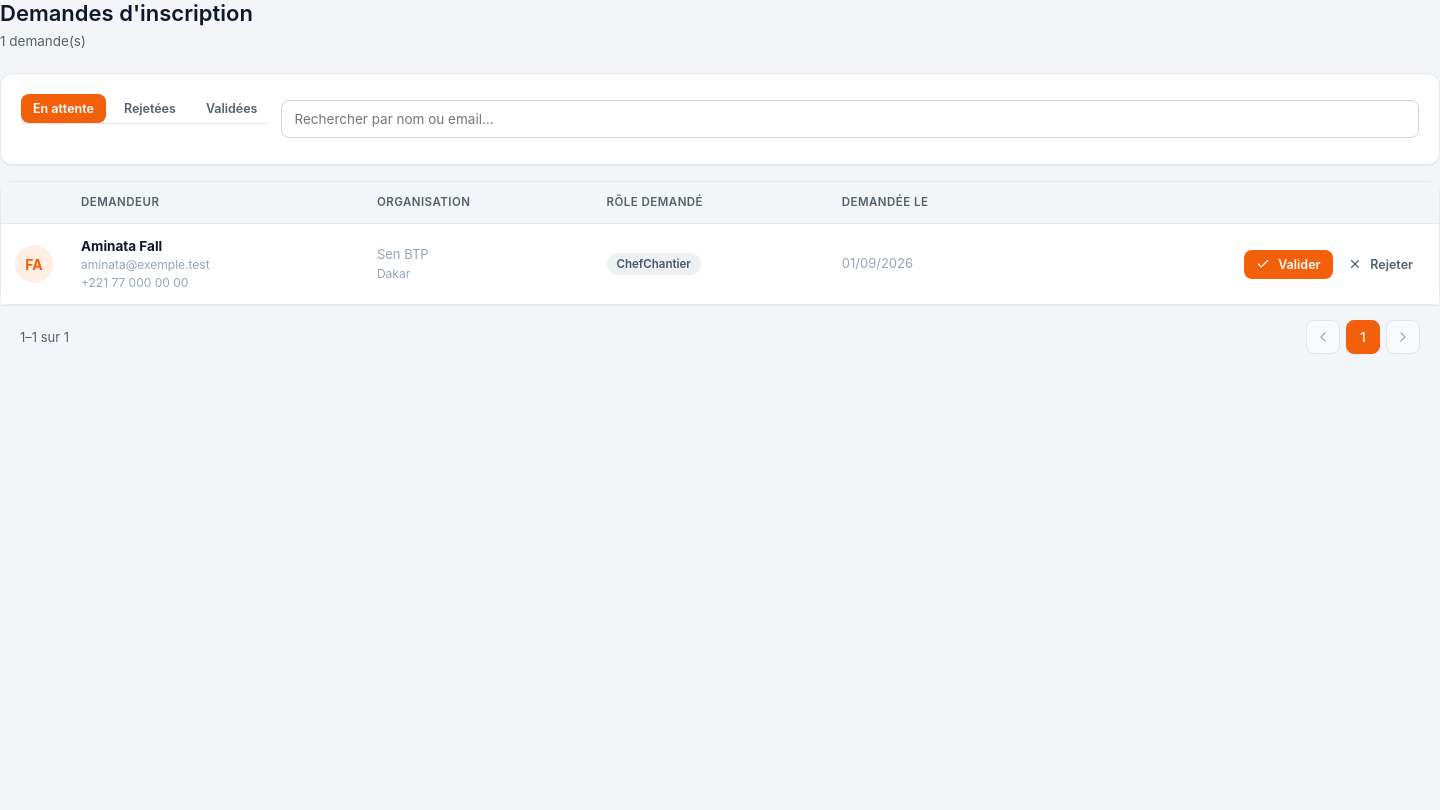
Scenario: PlateformeDemandes › rejet › refuse un motif trop court sans appeler le serveur
Click the button "Rejeter" at (1381, 264), box [1336,250,1425,279]
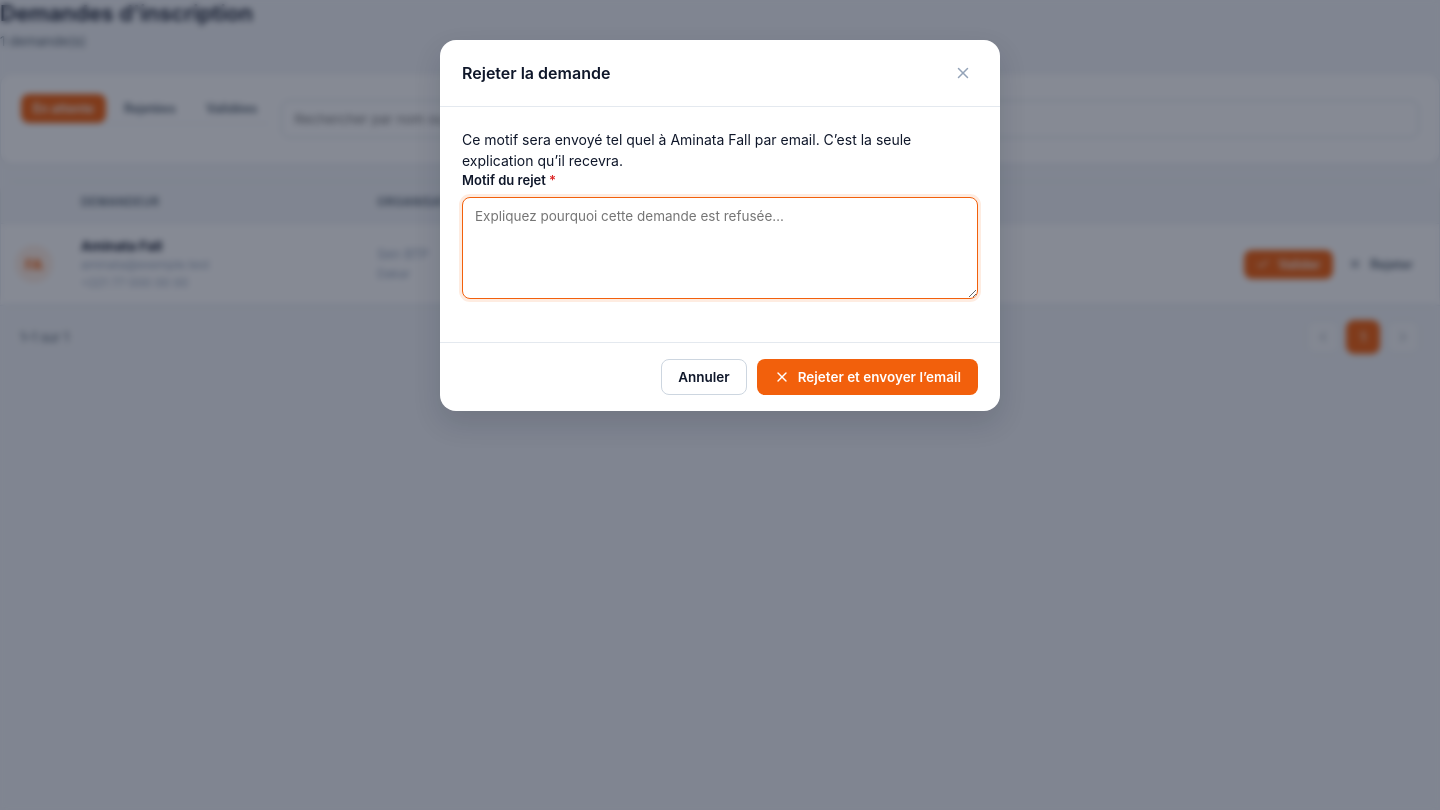
Type "non" into the text box labelled "Motif du rejet *" at (720, 248), box [462,196,978,298]
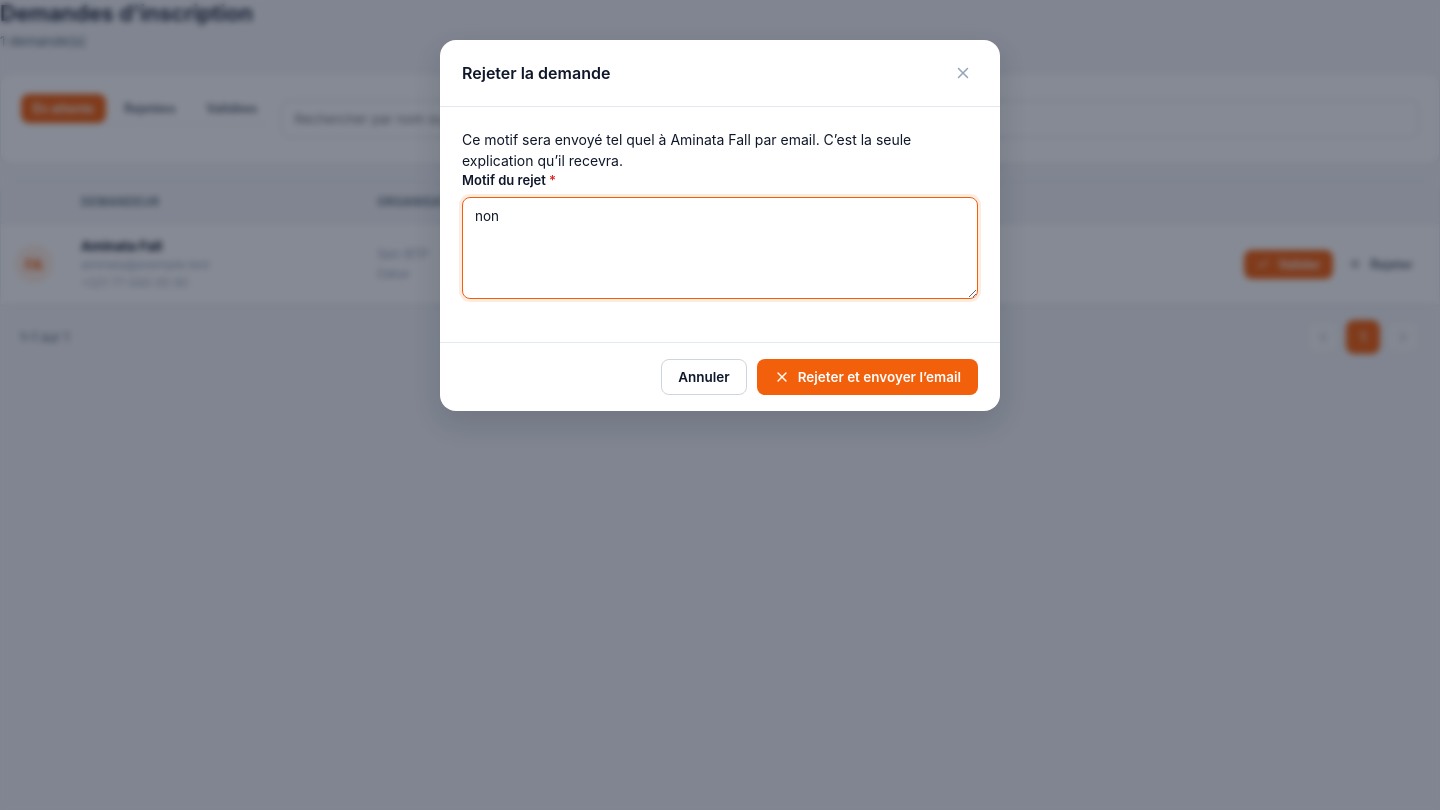
Click the button "Rejeter et envoyer l’email" at (867, 377), box [757,358,978,395]
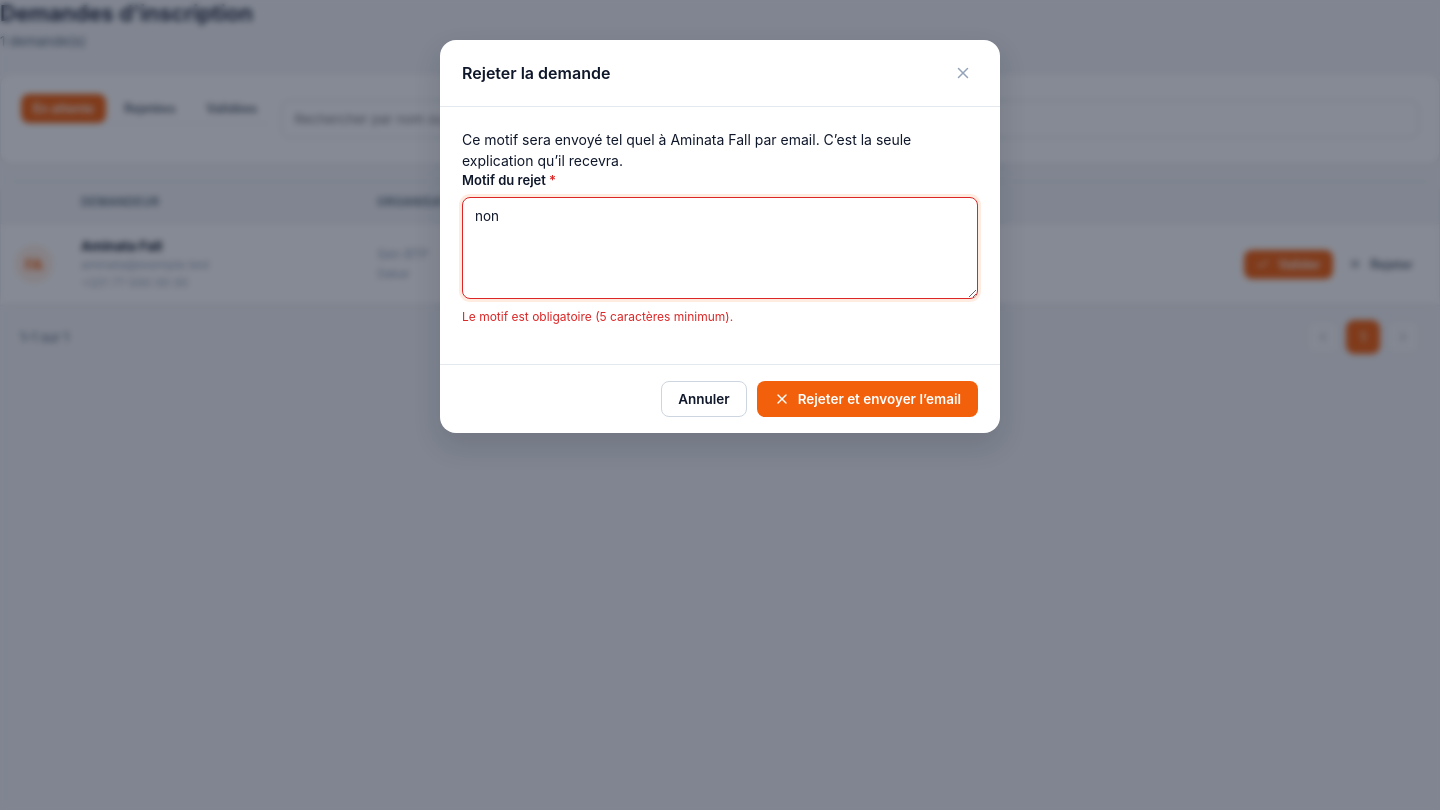
Expected: the text "Le motif est obligatoire (5 caractères minimum)." is shown, [462,308,733,324]
